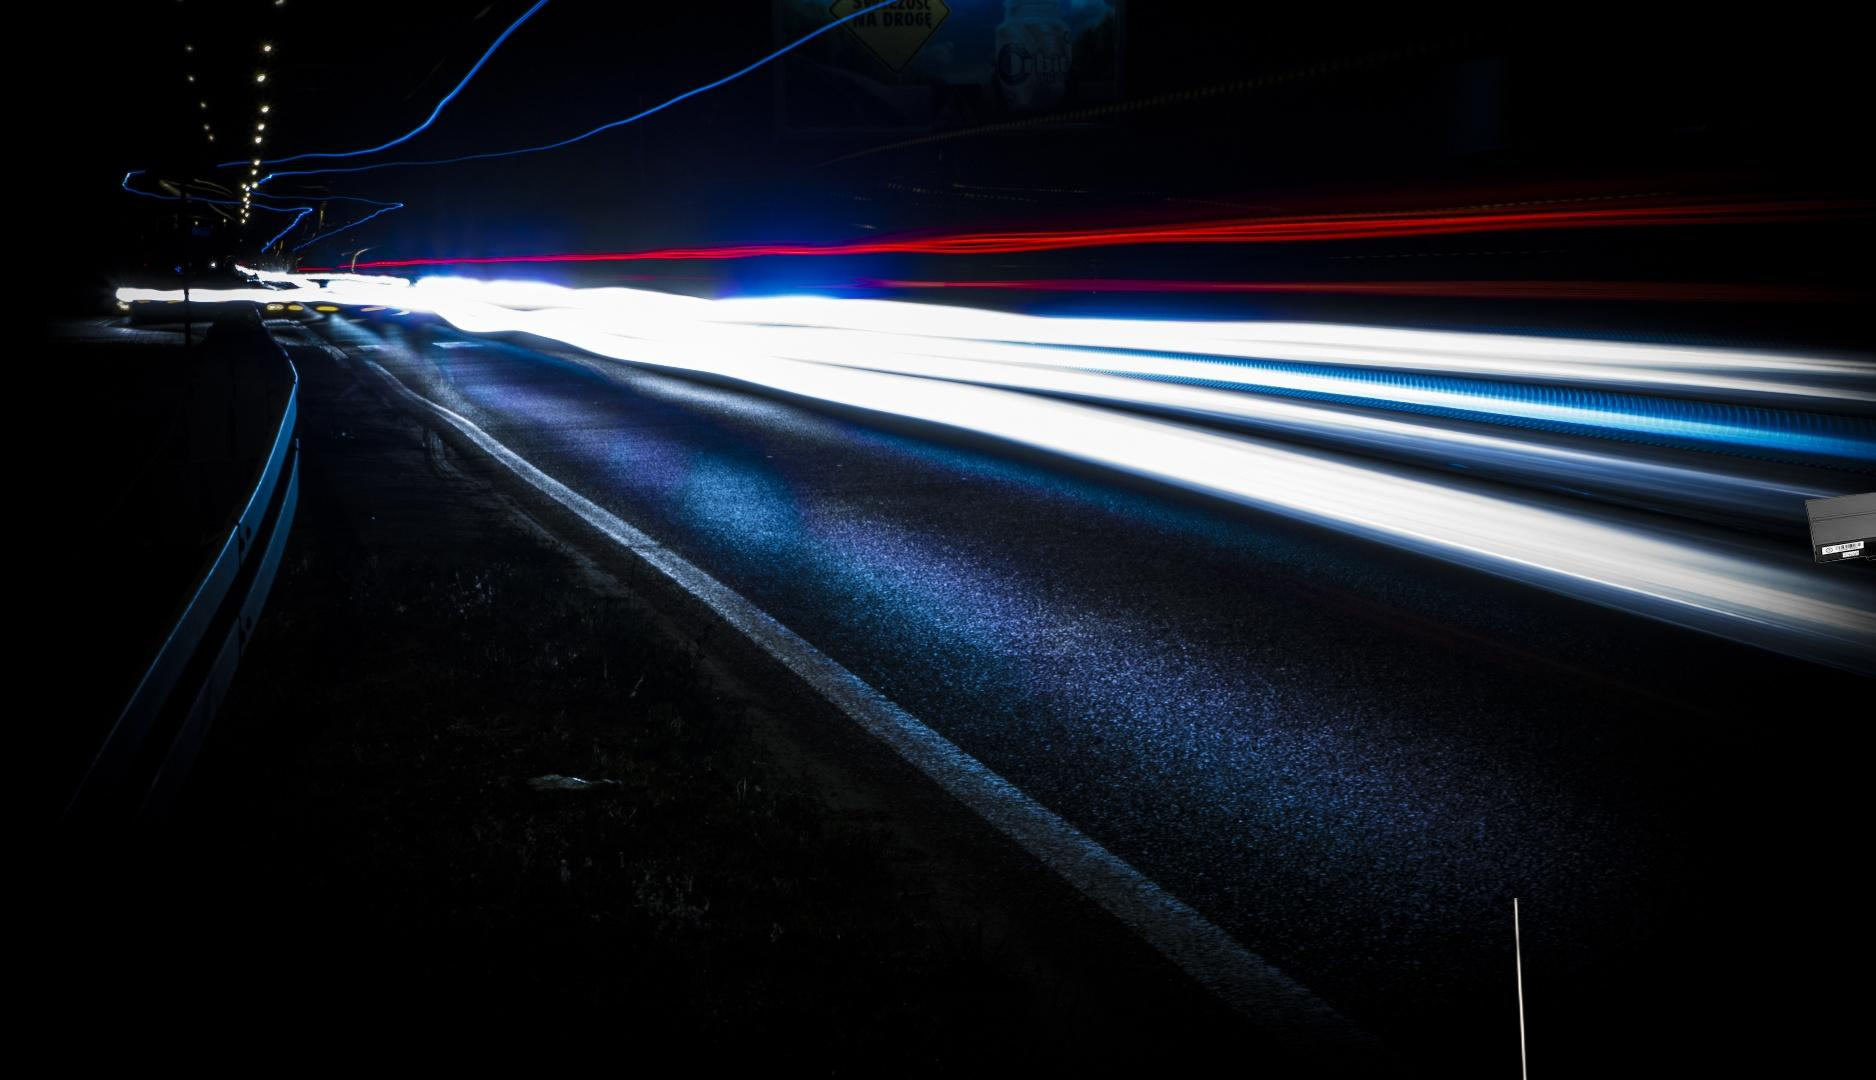battery: (1803, 470, 1876, 566)
plastic-bottles: (1372, 898, 1613, 1080)
